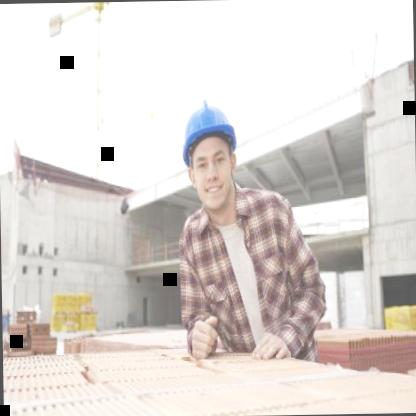helmet: (176, 84, 246, 220)
